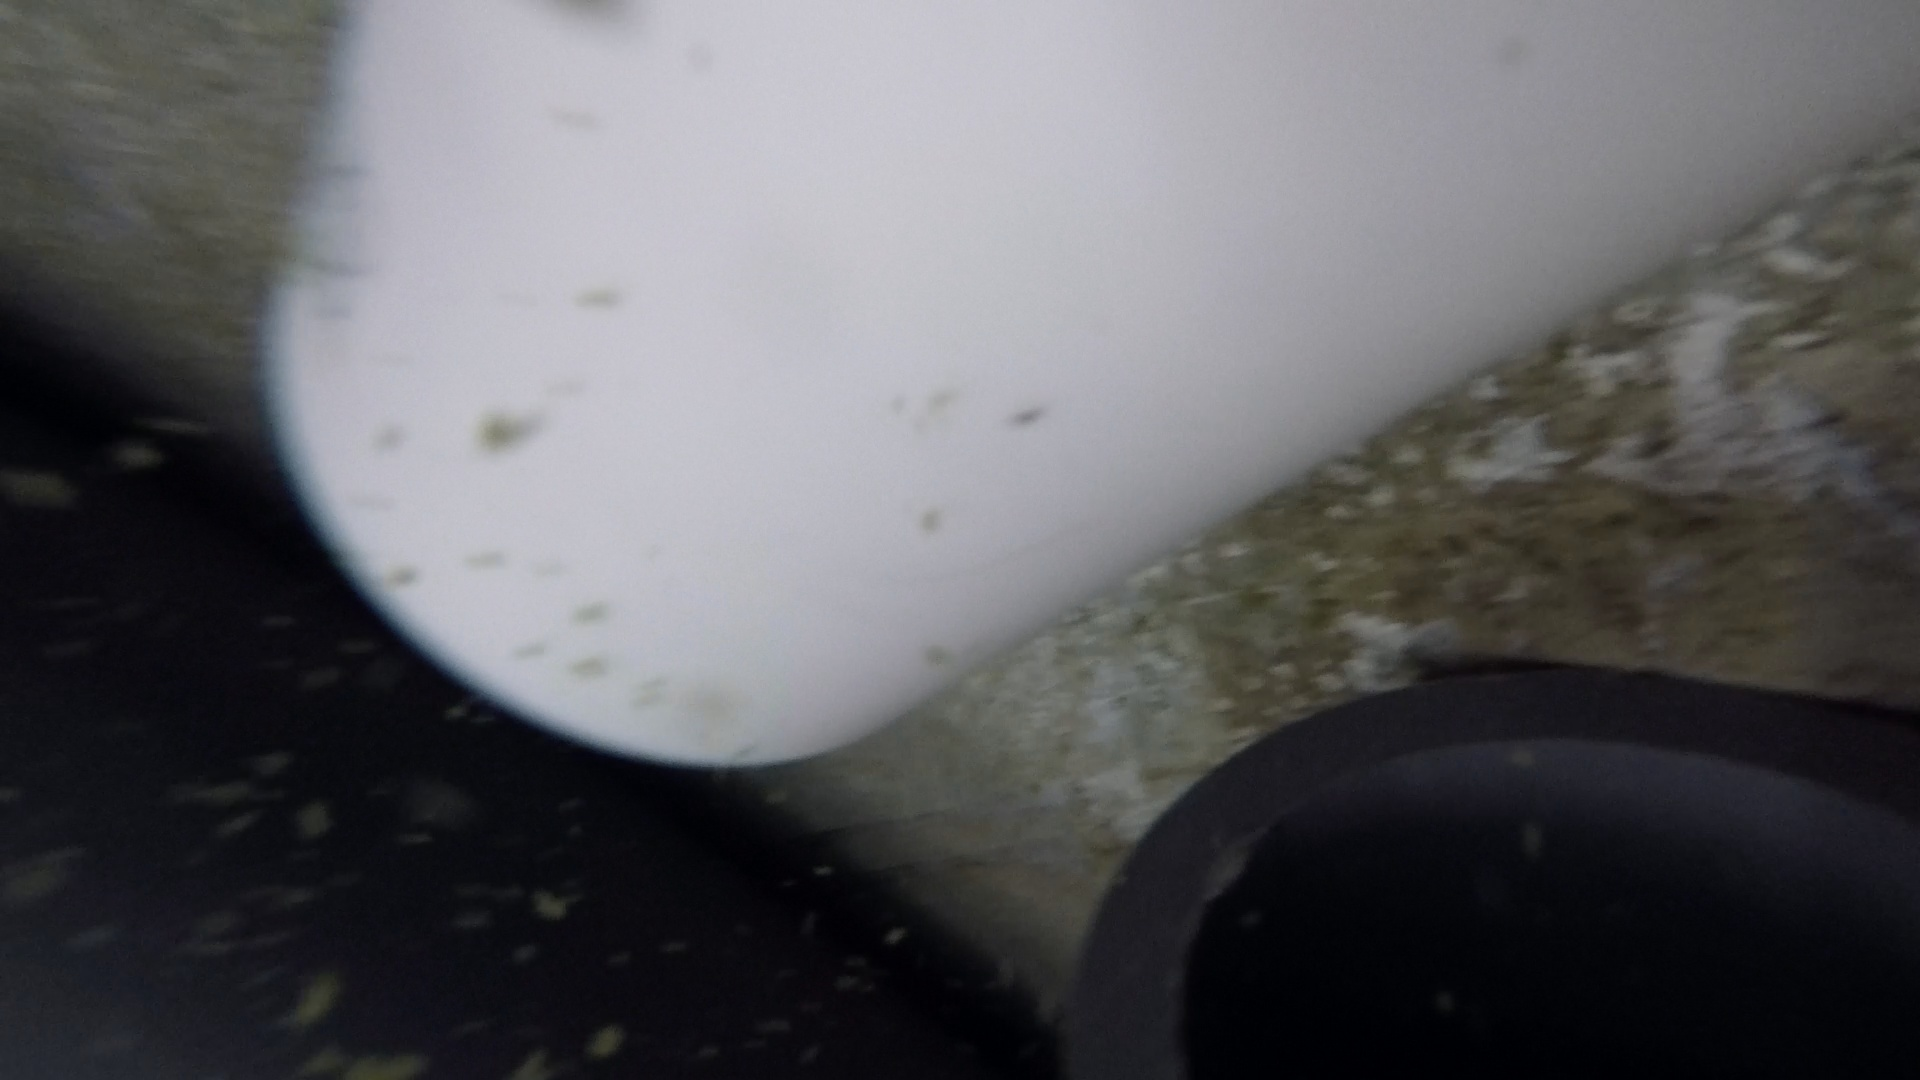pipe: (256, 1, 1920, 771), (1, 294, 1025, 1077), (1059, 669, 1916, 1080)
